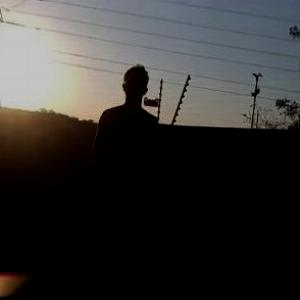follow: (83, 62, 158, 299)
